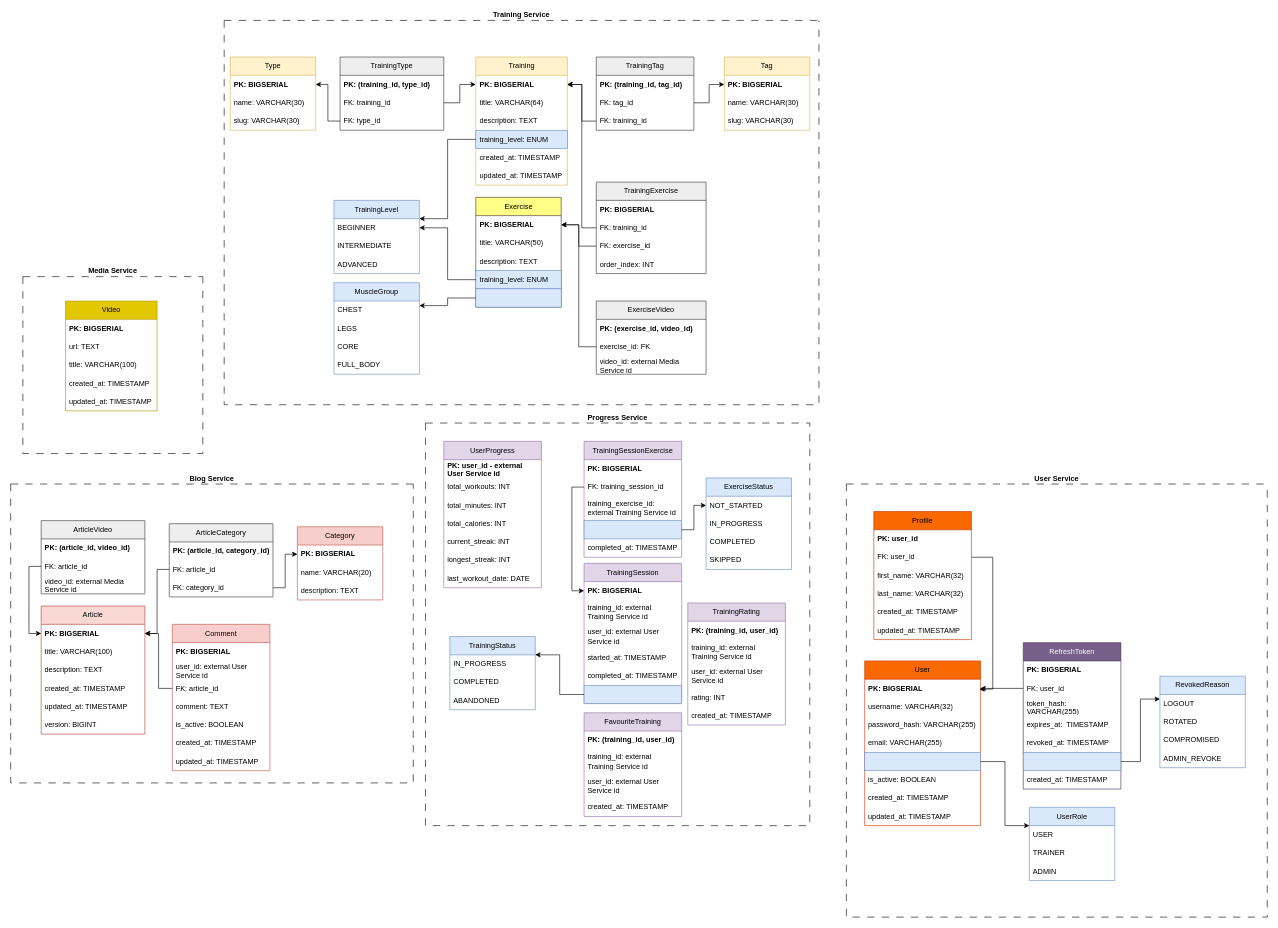
This 1278x928 diagram has some shape labels left out. Here are the shapes that lost their labels. From the top down, the centre of each, then its label:
At point 518,297: "muscle_group: ENUM".
At point 632,529: "exerciseStatus: ENUM".
At point 632,694: "trainingStatus: ENUM".
At point 922,761: "role: ENUM".
At point 1072,761: "revoked_reason: ENUM".
